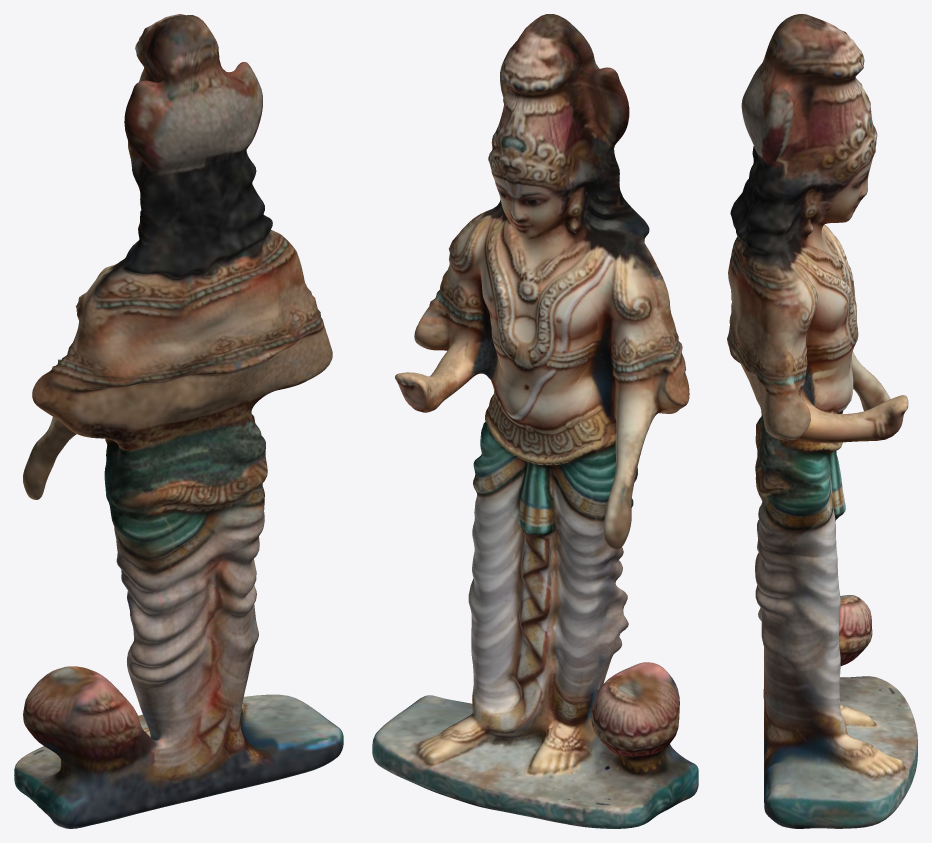
Rendered from Yudistira.fbx.
3 renders of one model, left to right at view 1: azimuth 30°, elevation 25°; view 2: azimuth 150°, elevation 25°; view 3: azimuth 270°, elevation 25°, orthographic. The views are drawn at different scales.
Parts seen in each view (by area): view 1: Group1; view 2: Group1; view 3: Group1.
Boxes of the visible parts, x1=… form: Group1: x1=14, y1=14, x2=343, y2=828; Group1: x1=372, y1=14, x2=698, y2=828; Group1: x1=727, y1=14, x2=917, y2=828.
Size of the model in its own units: 9.75 by 24.67 by 5.7.
